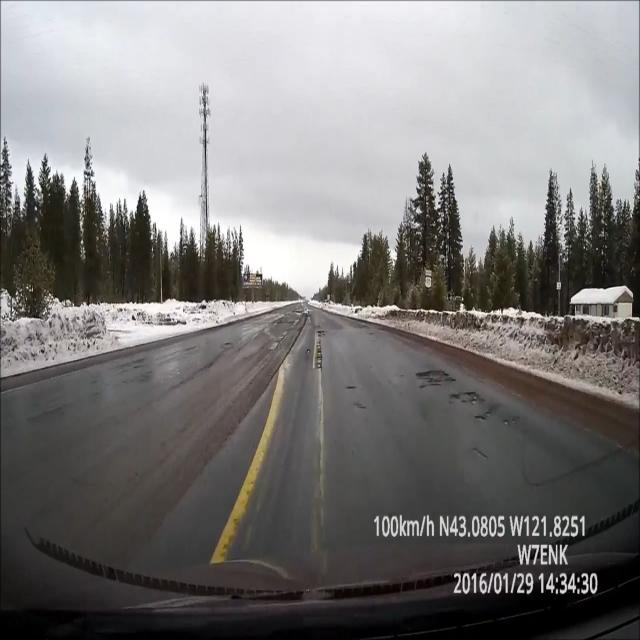Pothole: (419, 359, 488, 414), (314, 326, 326, 378)
